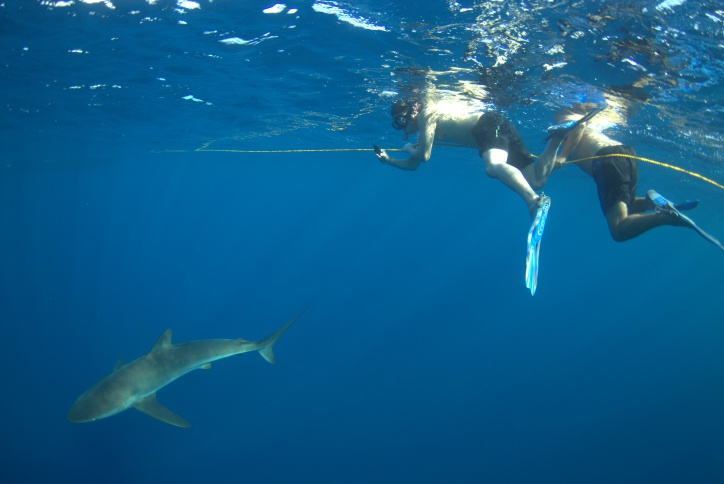Sedoso: (51, 288, 336, 445)
